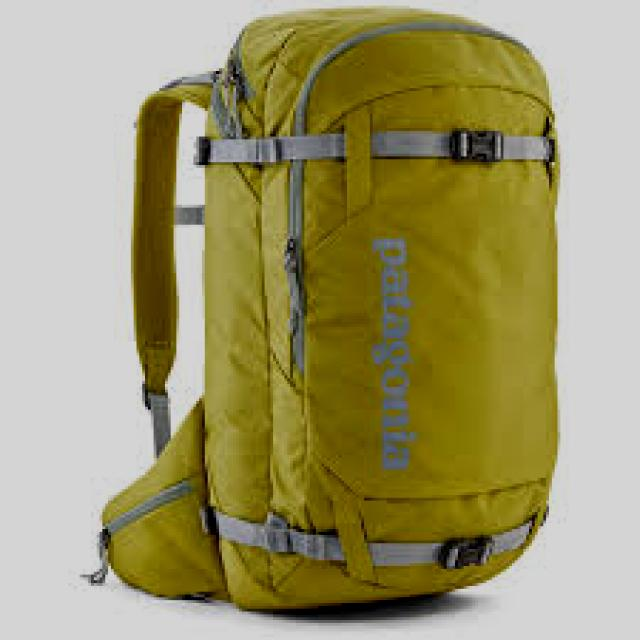backpack: (84, 4, 562, 612)
